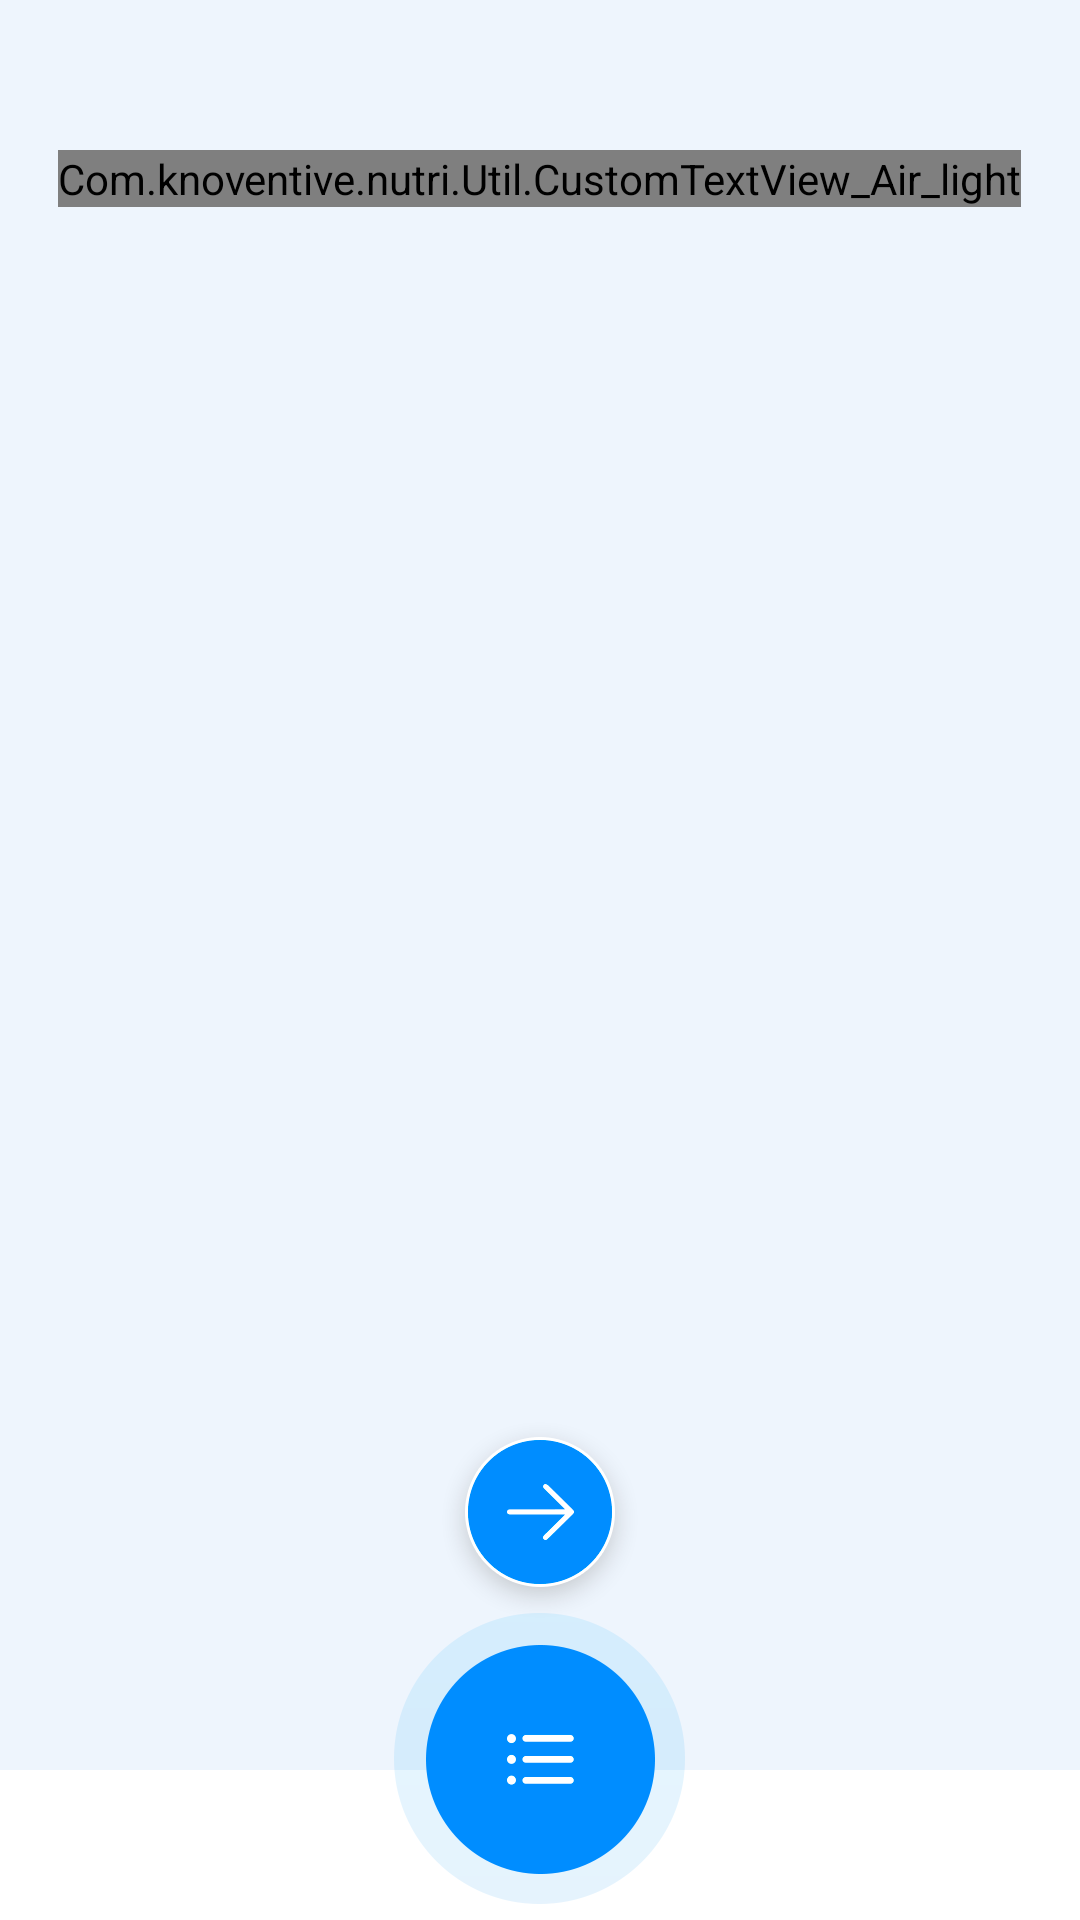

Icons on this 1080px x 1920px Android screen, each with its box as (x1, y1, x2, y2):
arrow: (468, 1440, 612, 1593)
menu: (394, 1613, 685, 1874)
